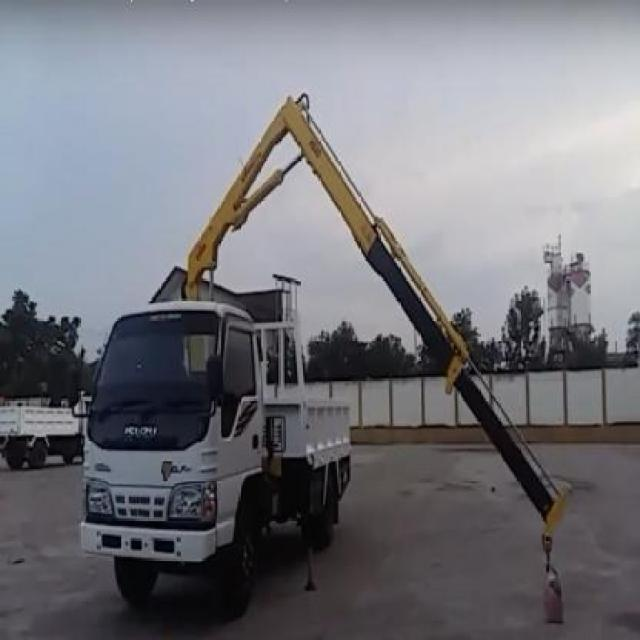Mobile Crane: (65, 80, 582, 615)
